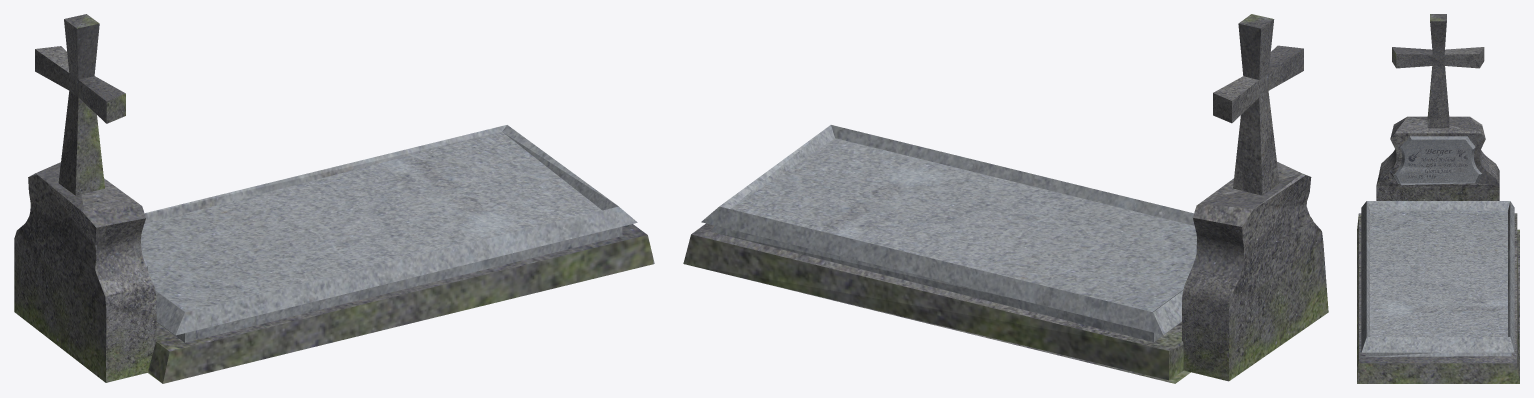
File: grave_rip.FBX
3 views of the same model, side by side, from view 1: azimuth 30°, elevation 25°; view 2: azimuth 150°, elevation 25°; view 3: azimuth 270°, elevation 25° (orthographic). The views are drawn at different scales.
Parts seen in each view (by area): view 1: Form3, Form2, Form4; view 2: Form3, Form2, Form4; view 3: Form3, Form2, Form4.
Boxes of the visible parts, left/top/right/bottom form: Form3: left=141, top=125, right=654, bottom=383; Form2: left=14, top=162, right=156, bottom=382; Form4: left=35, top=14, right=125, bottom=195; Form3: left=683, top=125, right=1196, bottom=383; Form2: left=1182, top=162, right=1328, bottom=381; Form4: left=1213, top=14, right=1303, bottom=195; Form3: left=1357, top=201, right=1519, bottom=383; Form2: left=1376, top=116, right=1499, bottom=200; Form4: left=1392, top=14, right=1484, bottom=128.
Bounding box in the file's own units: 7.3 × 3 × 4.19.
Materials: 1 (1 with a texture image).
